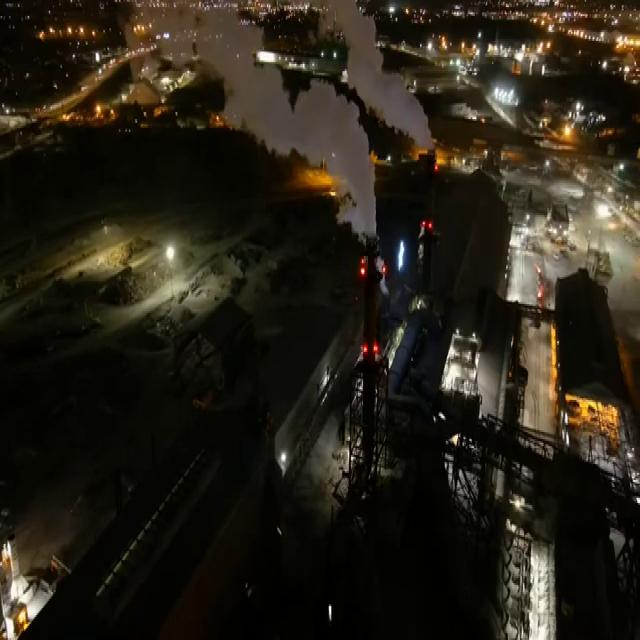smoke: (194, 18, 376, 238), (317, 0, 433, 160)
